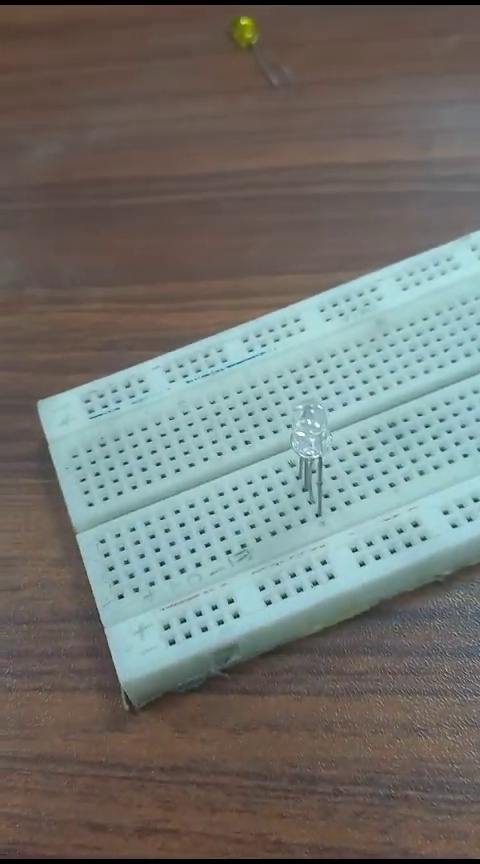LED: (290, 393, 351, 521)
